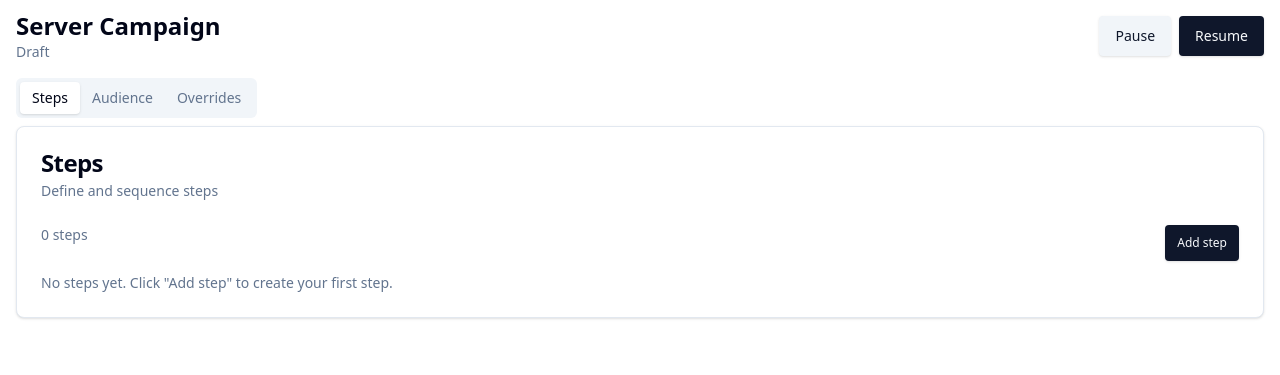
CampaignDetailPage (empty state) › allows adding a step on top of server data
Click the button "Add step" at (1202, 243), box [1165,225,1239,261]
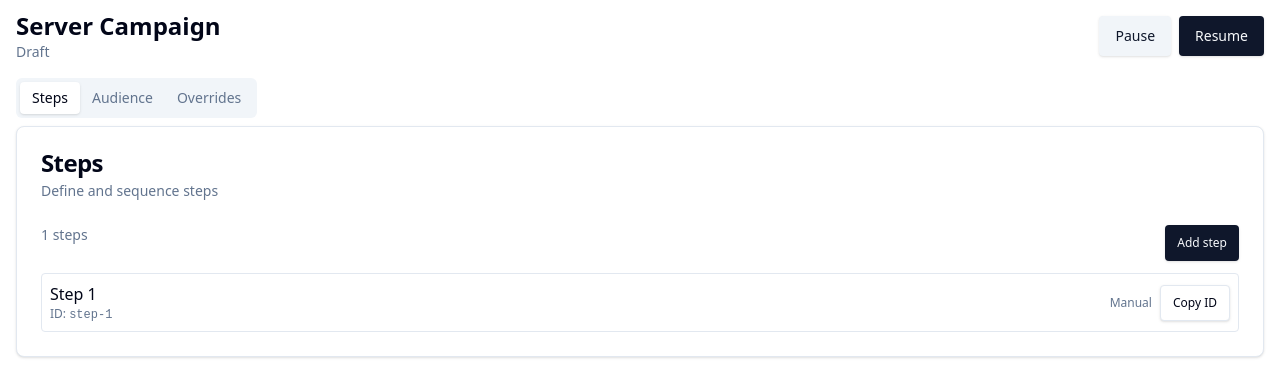
Result: the text "Step 1" is shown once at [50,283,97,305]
